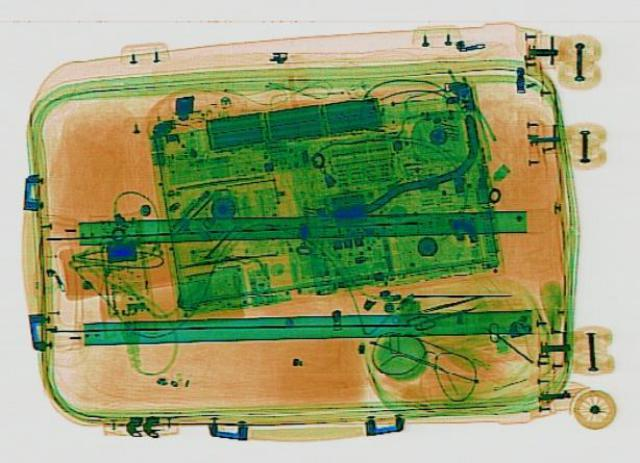Scissors: (404, 297, 478, 331)
